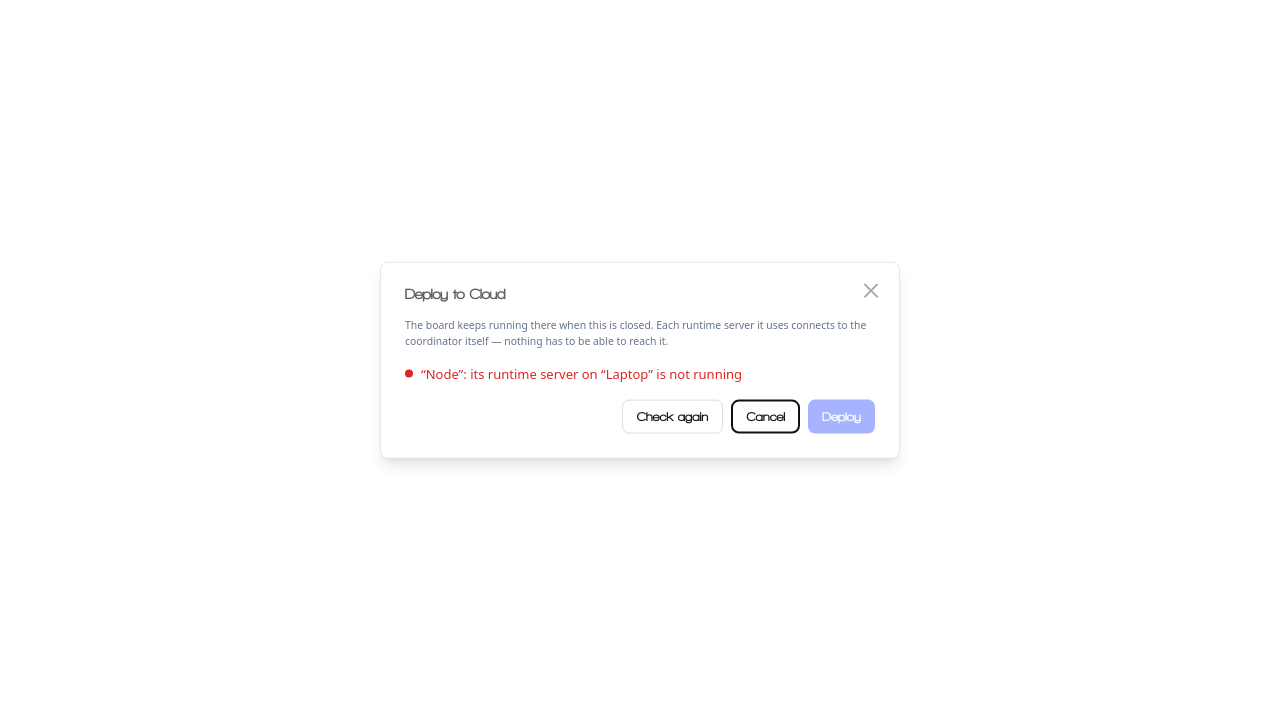
it: the deploy dialog › checks again when asked, so a server that was started can be found
Click the button "Check again".
click(673, 417)  # box [622,400,723,433]
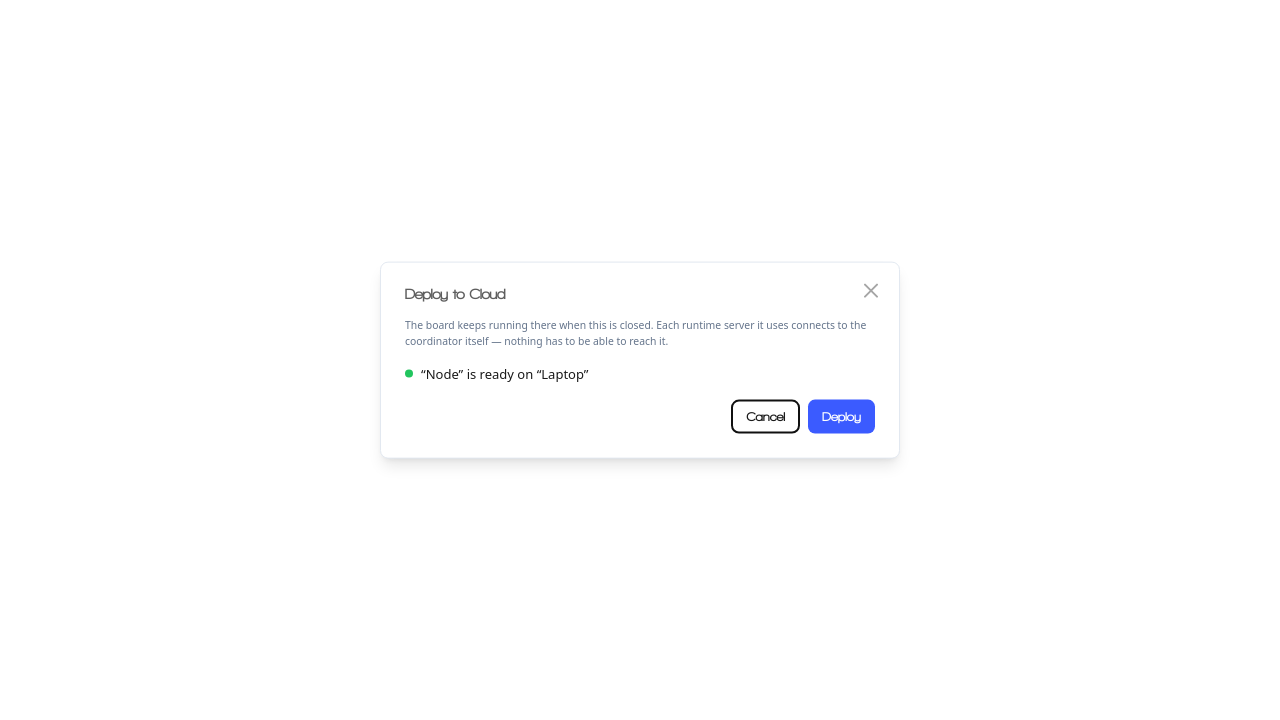
Check: the text "“Node” is ready on “Laptop”" is shown, box [421,365,588,384]
Check: the button "Deploy" is enabled, box [808,400,875,433]
Check: the button "Check again" is gone
